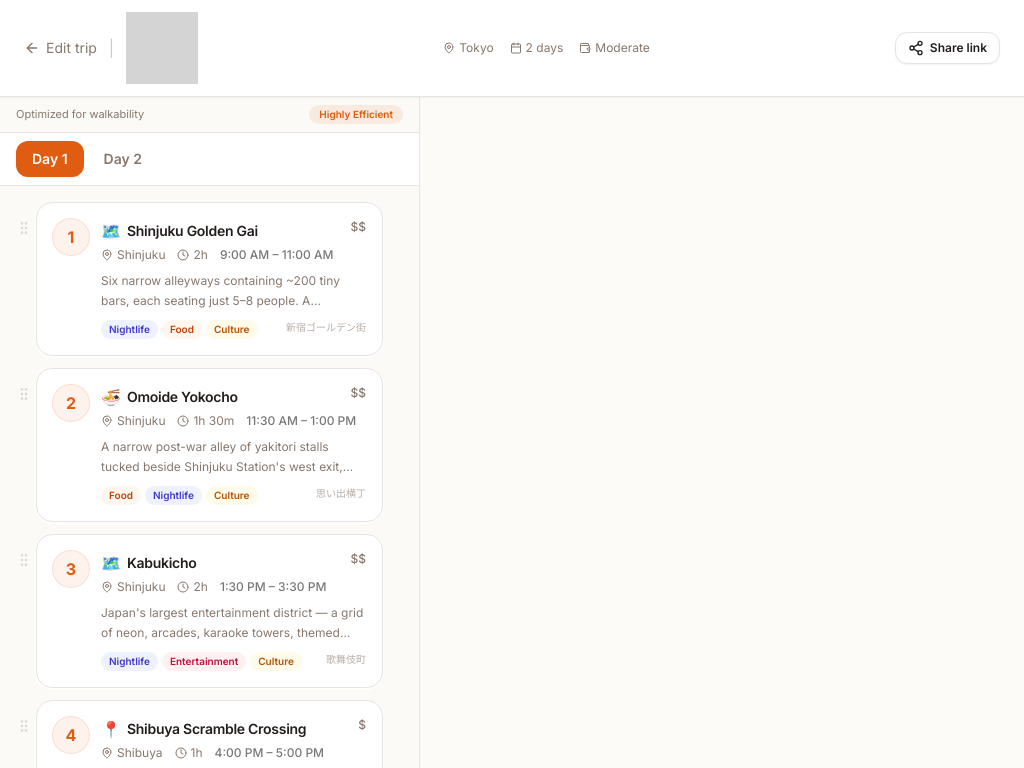
TripViewer — hash → render flow › switches to Day 2 when the Day 2 tab is clicked
# Click Day 2 tab
Click the button "Day 2".
click(123, 159)  # box [88,141,158,177]
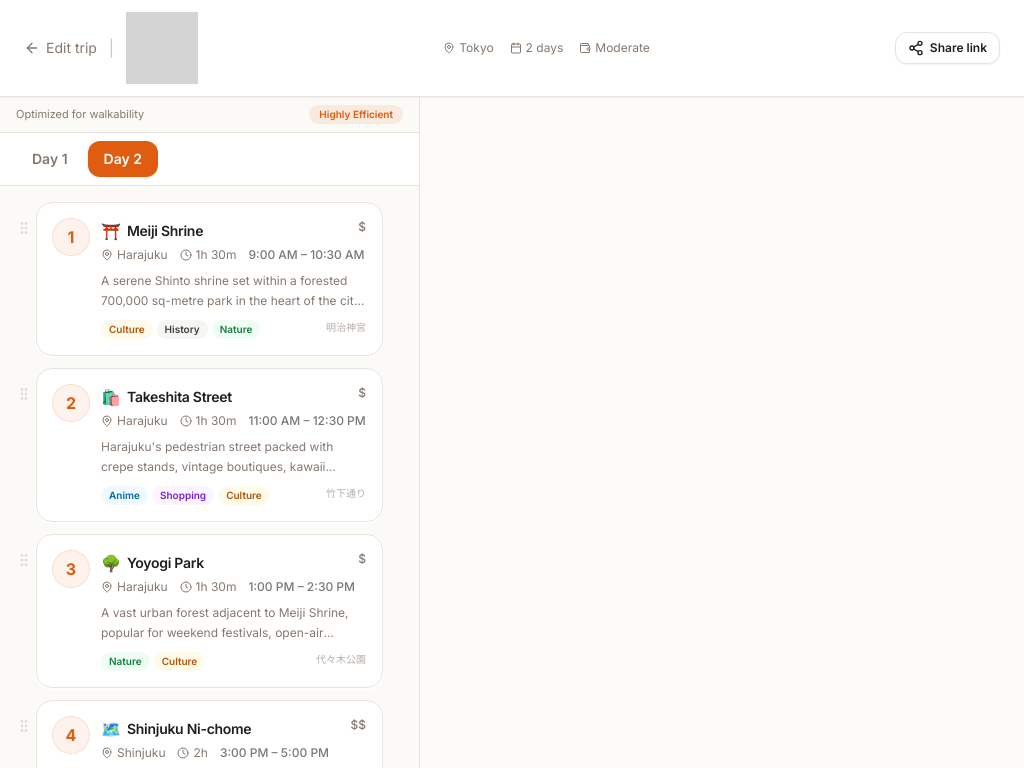
Expected: the heading "Meiji Shrine" is shown, [127,221,203,241]
